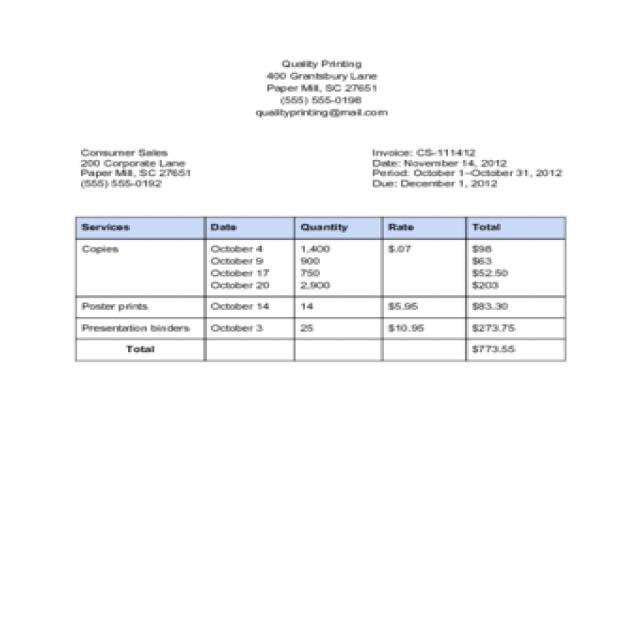due_date: (402, 178, 506, 192)
invoice_date: (406, 156, 508, 169)
invoice_number: (416, 145, 480, 158)
invoice_total: (469, 342, 530, 358)
item_description: (78, 242, 200, 336)
item_quantity: (297, 240, 340, 334)
item_total_price: (470, 243, 523, 336)
item_unit_price: (384, 242, 444, 336)
supplier_address: (264, 70, 386, 96)
supplier_name: (282, 55, 366, 72)
